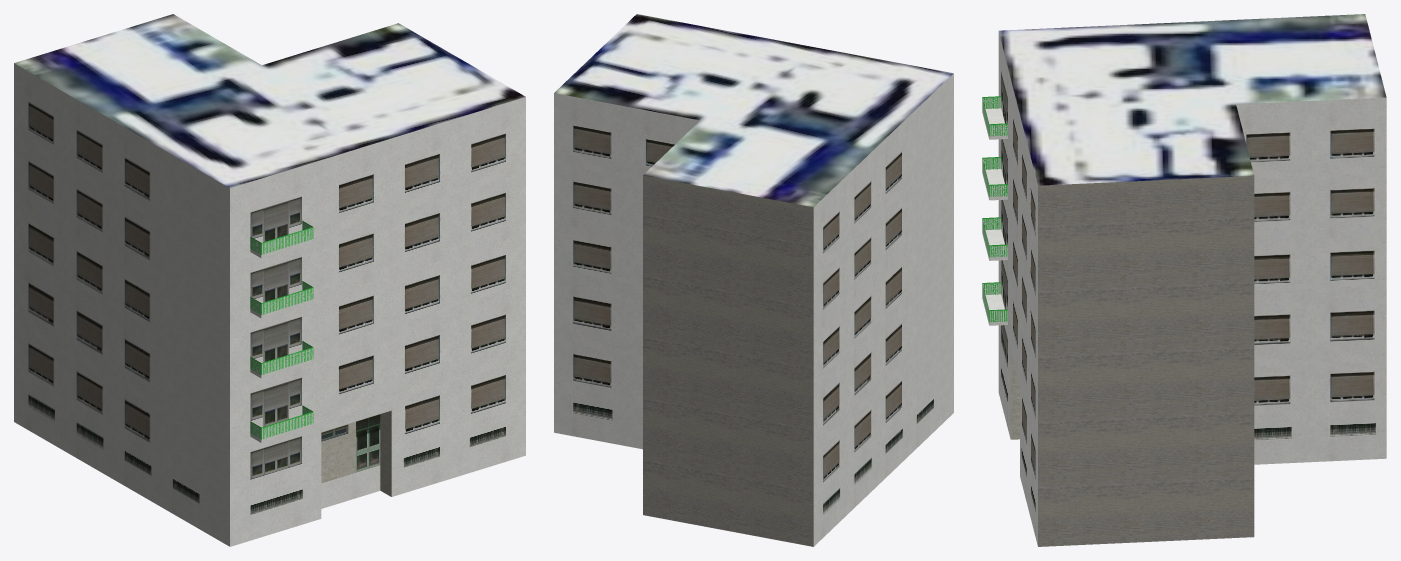
The model's file is Building010.dae.
3 views of the same model, side by side, from view 1: azimuth 30°, elevation 25°; view 2: azimuth 150°, elevation 25°; view 3: azimuth 270°, elevation 25° (orthographic). The views are drawn at different scales.
Parts seen in each view (by area): view 1: SketchUp (×12); view 2: SketchUp (×7); view 3: SketchUp (×6).
Boxes of the visible parts, left/top/right/bottom form: SketchUp (×12): left=14, top=14, right=525, bottom=546; SketchUp (×7): left=554, top=14, right=953, bottom=546; SketchUp (×6): left=982, top=14, right=1386, bottom=546.
Bounding box in the file's own units: 845 × 841 × 830.
Materials: 13 (12 with a texture image).
